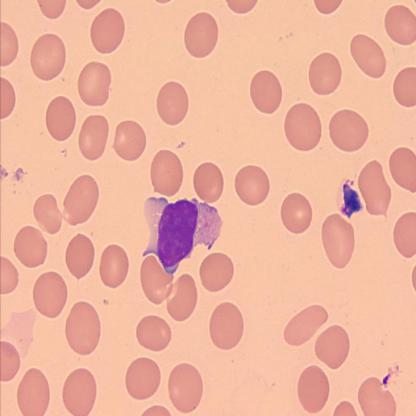Atypical lymphocyte: (144, 191, 222, 272)
